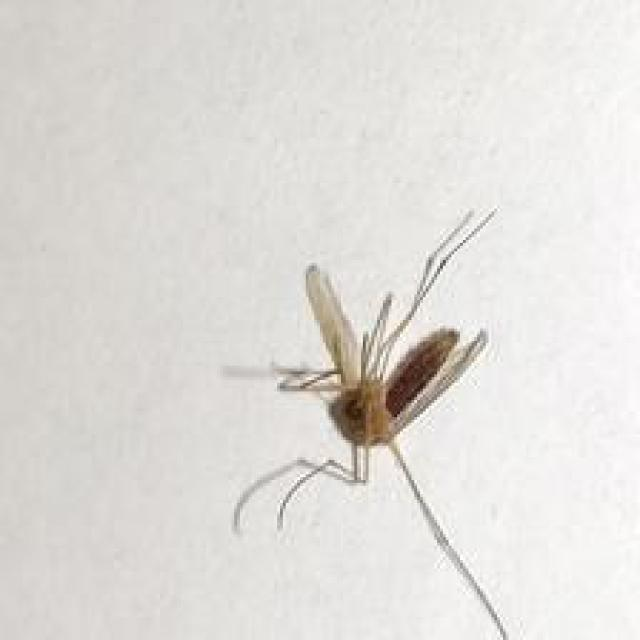Culex: (221, 205, 524, 640)
